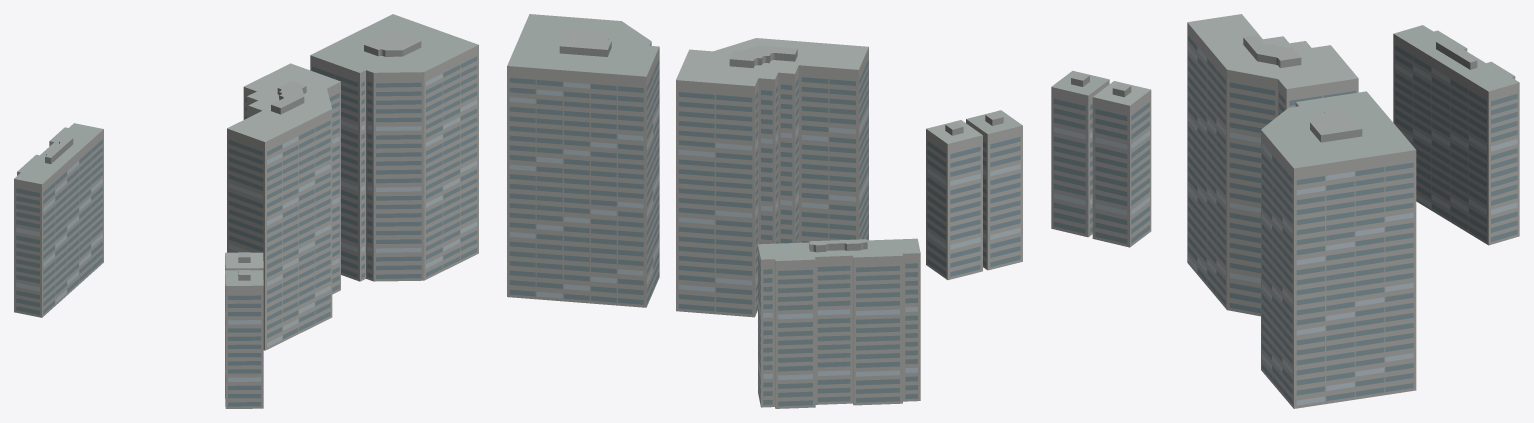
File: apt-a10023368.glb
3 renders of one model, left to right at view 1: azimuth 30°, elevation 25°; view 2: azimuth 150°, elevation 25°; view 3: azimuth 270°, elevation 25°, orthographic. The views are drawn at different scales.
Parts seen in each view (by area): view 1: apt-a10023368; view 2: apt-a10023368; view 3: apt-a10023368.
Boxes of the visible parts, bbox=[...] form: apt-a10023368: bbox=[14, 14, 478, 408]; apt-a10023368: bbox=[507, 14, 1022, 408]; apt-a10023368: bbox=[1051, 14, 1519, 408].
Bounding box in the file's own units: 159 × 80 × 137.
